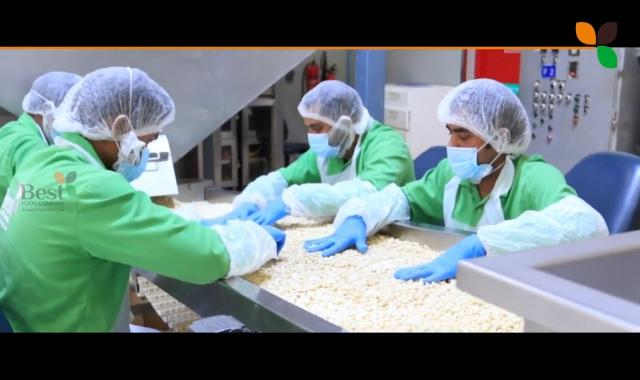hairnet: (59, 74, 180, 138), (439, 80, 533, 153), (298, 80, 367, 133), (22, 72, 81, 108)
